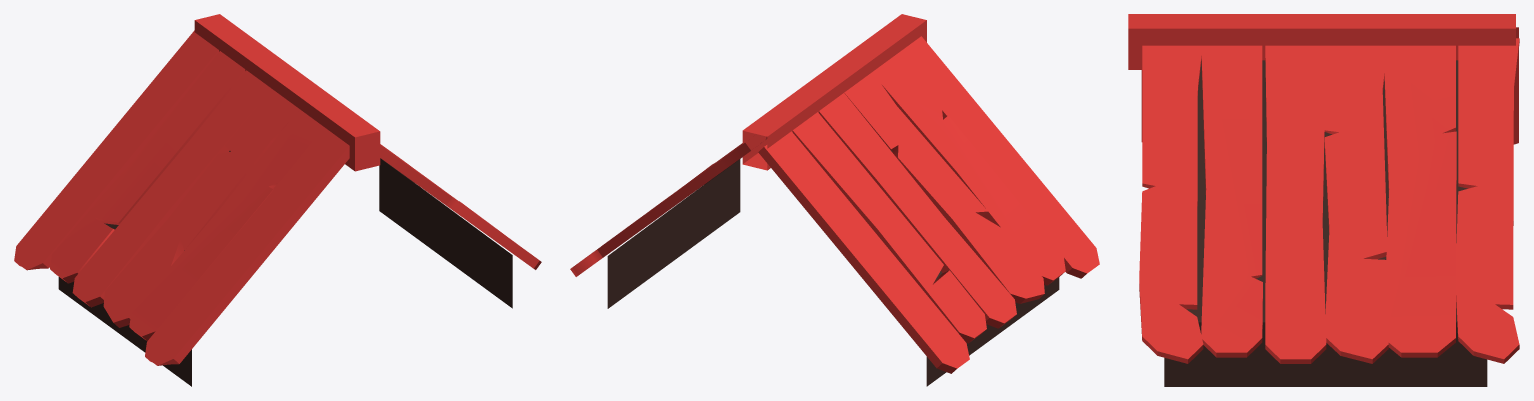
Rendered from Building_Roof_003.glb.
The picture shows the model from 3 angles, left to right: view 1: azimuth 30°, elevation 25°; view 2: azimuth 150°, elevation 25°; view 3: azimuth 270°, elevation 25°; orthographic projection. The views are drawn at different scales.
Visible parts, largest first — view 1: Building_Roof_003; view 2: Building_Roof_003; view 3: Building_Roof_003.
Boxes of the visible parts, bbox=[...] form: Building_Roof_003: bbox=[14, 14, 541, 386]; Building_Roof_003: bbox=[570, 14, 1099, 386]; Building_Roof_003: bbox=[1128, 14, 1519, 386].
Bounding box in the file's own units: 7.89 × 4.34 × 5.68.
1 material, 1 textured.
